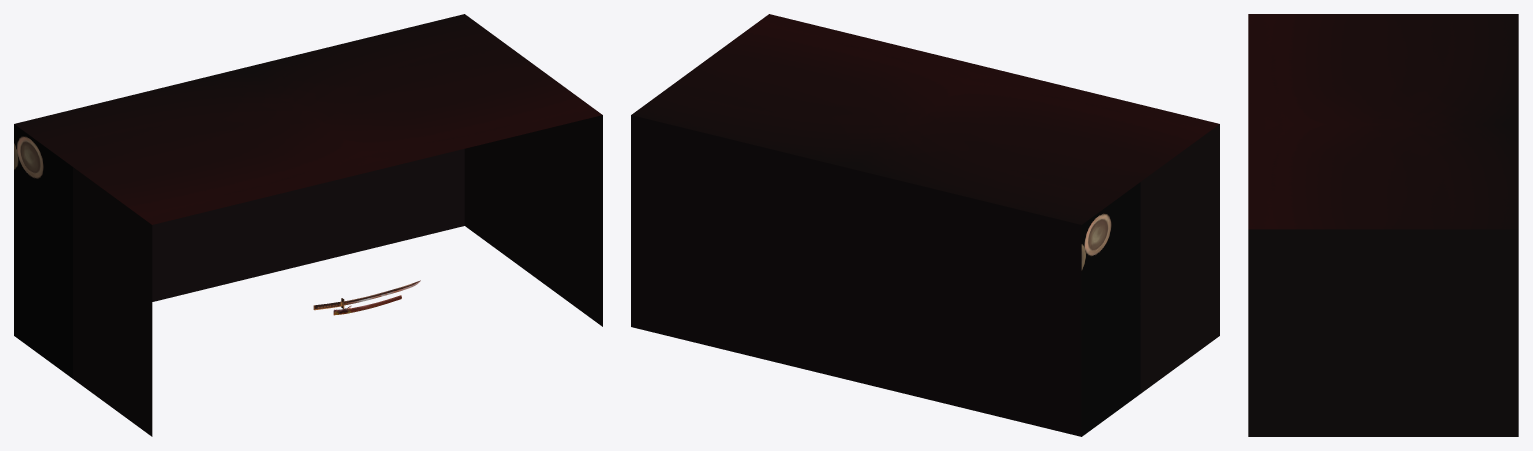
Rendered from fbx_jisitading_qiang_03.FBX.
The picture shows the model from 3 angles, left to right: view 1: azimuth 30°, elevation 25°; view 2: azimuth 150°, elevation 25°; view 3: azimuth 270°, elevation 25°; orthographic projection. The views are drawn at different scales.
Visible parts, largest first — view 1: fbx_jisitading_qiang_03; view 2: fbx_jisitading_qiang_03; view 3: fbx_jisitading_qiang_03.
Part boxes in pixels (x1,y1,x2,y2): fbx_jisitading_qiang_03: (14,14,602,436); fbx_jisitading_qiang_03: (631,14,1219,436); fbx_jisitading_qiang_03: (1248,14,1518,436).
Bounding box in the file's own units: 1630 × 732 × 865.
